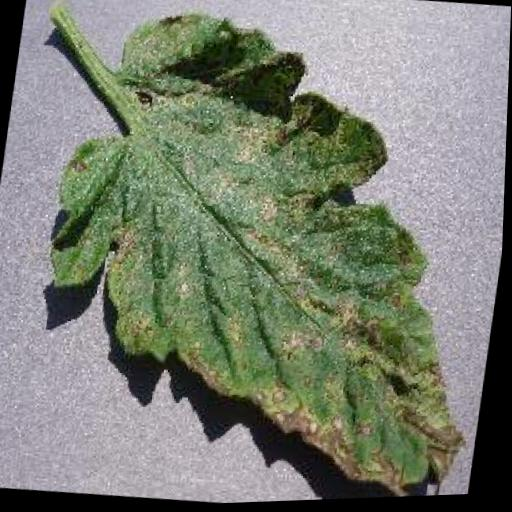Septoria: (22, 0, 512, 511)
